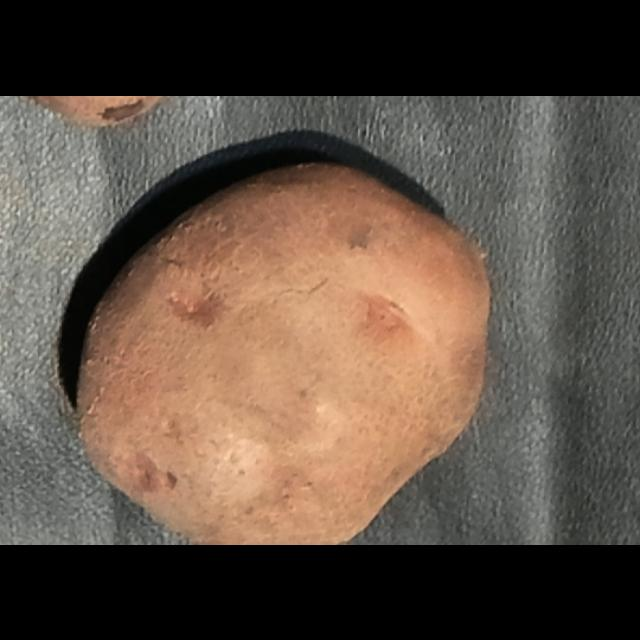Diseased-fungal potato: (68, 151, 506, 544)
